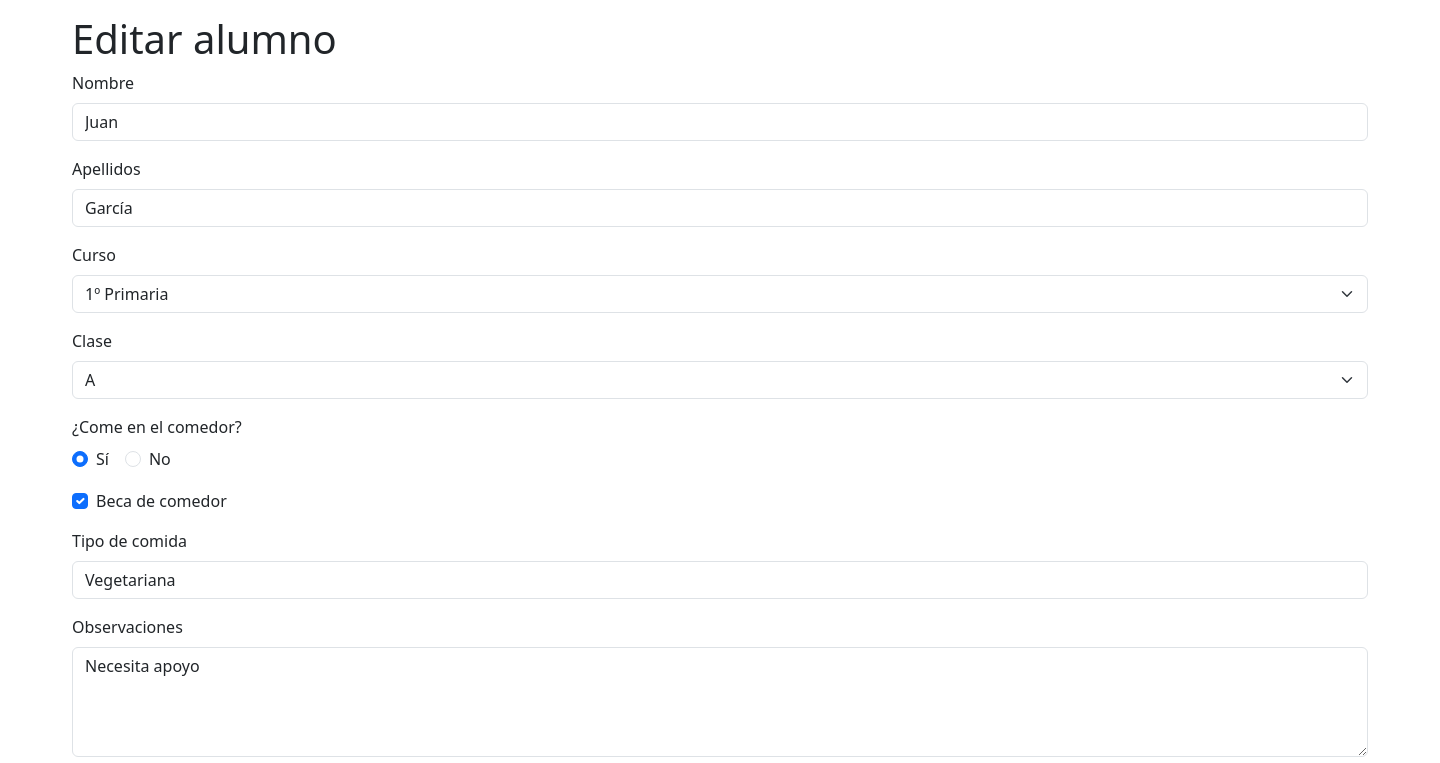
Test case: EditStudentPage › saving › sends one PUT with the final state, with the cafeteria as a boolean, even with a double click
Type "ito" into the field labelled "Nombre" at (720, 122), box [72,103,1368,141]
(page scrolled)
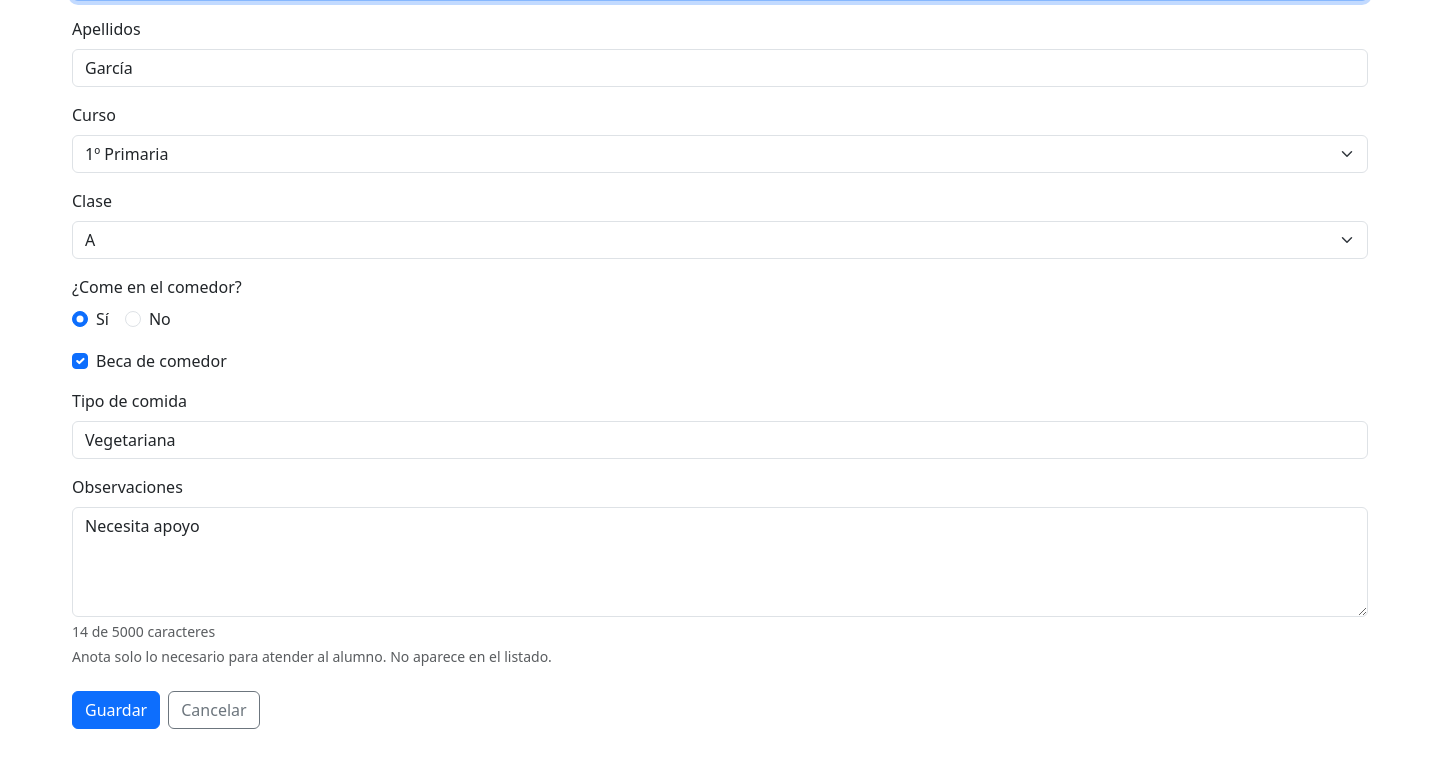
Double-click the button "Guardar" at (116, 710), box [72,691,160,729]
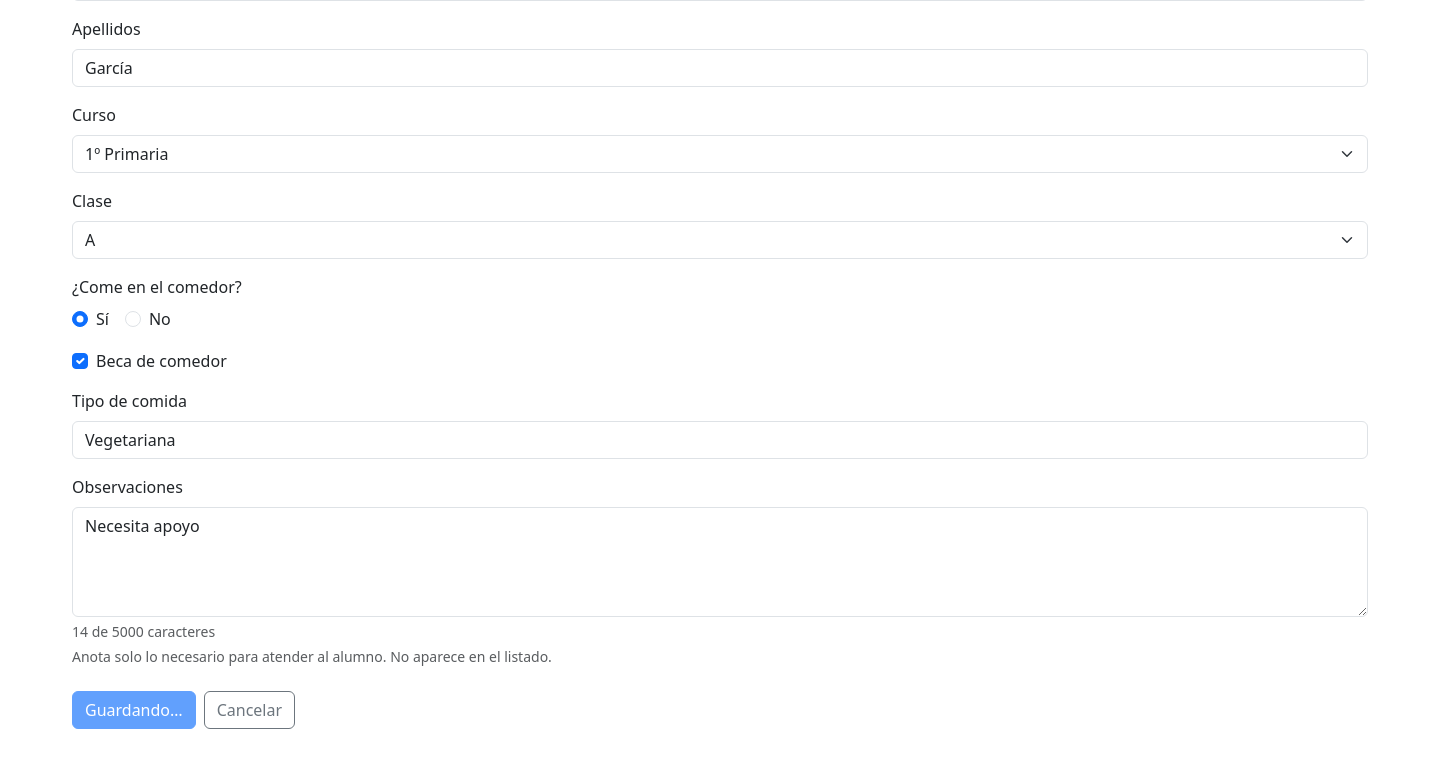
Result: the button "Guardando…" is disabled at [72,691,196,729]
